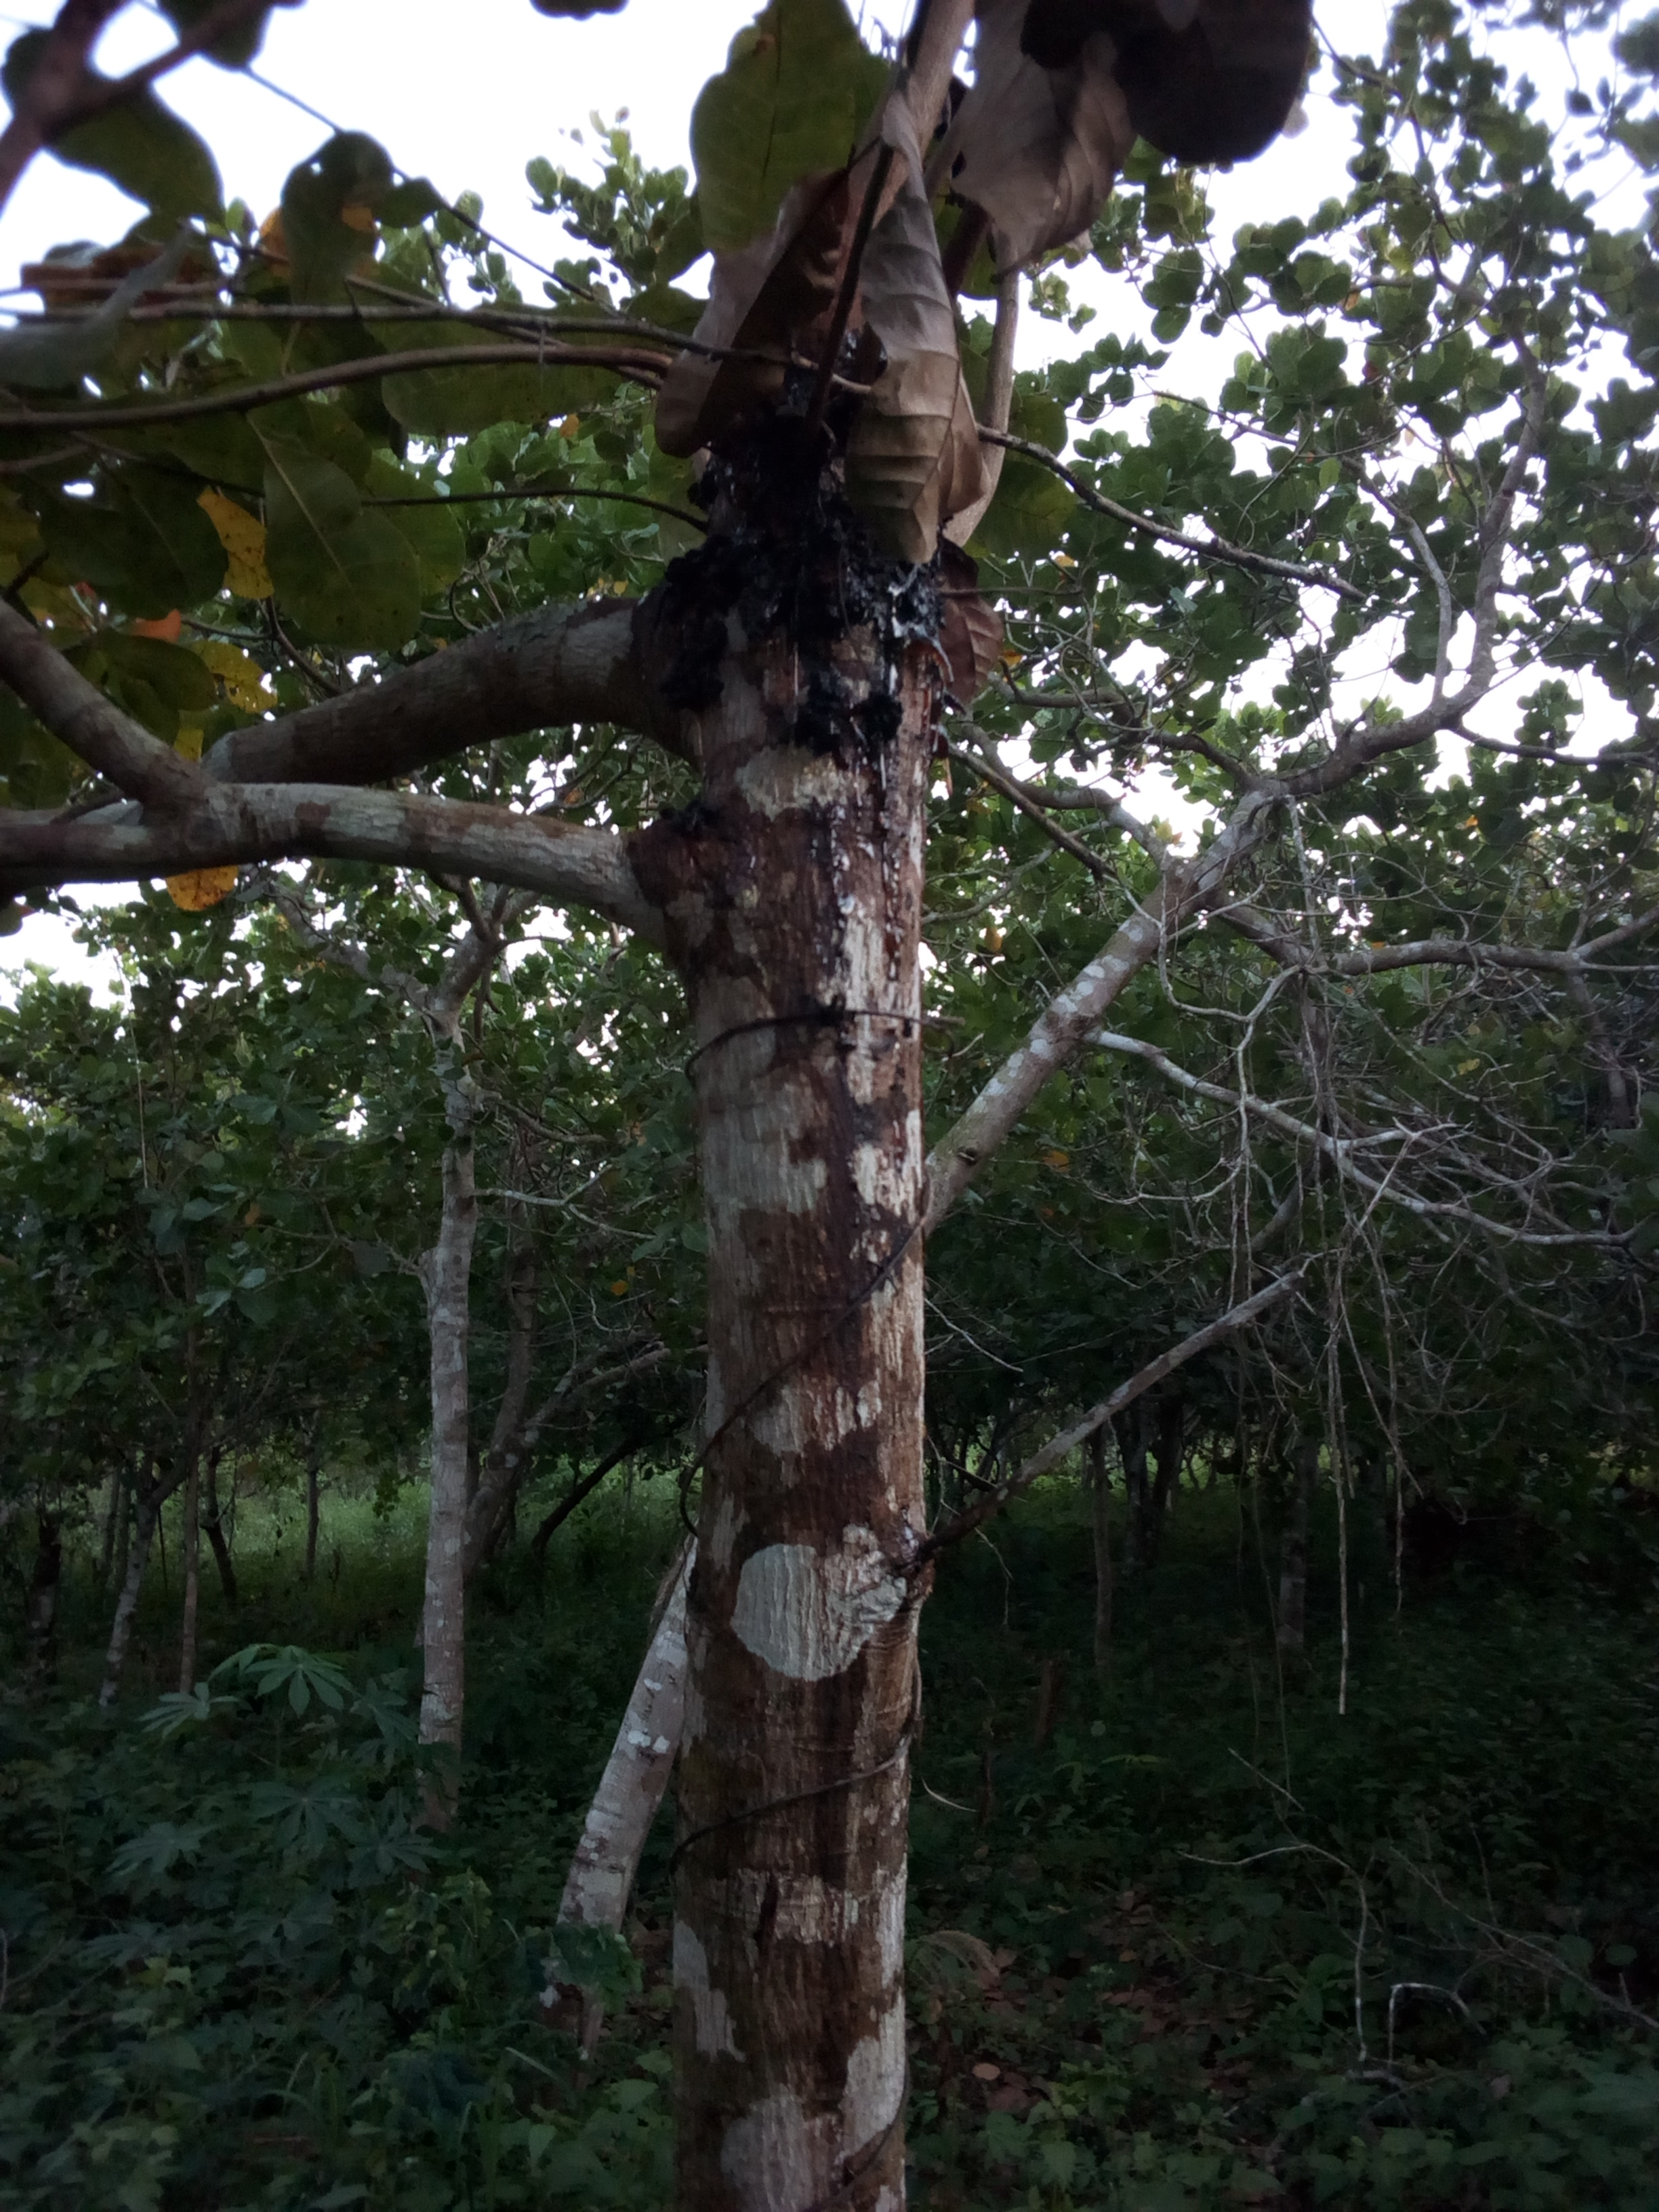Mecocorynus longiceps: (636, 374, 958, 876)
